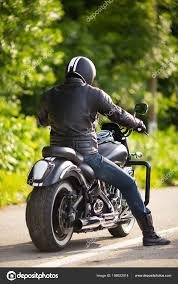motor: (25, 135, 160, 238)
